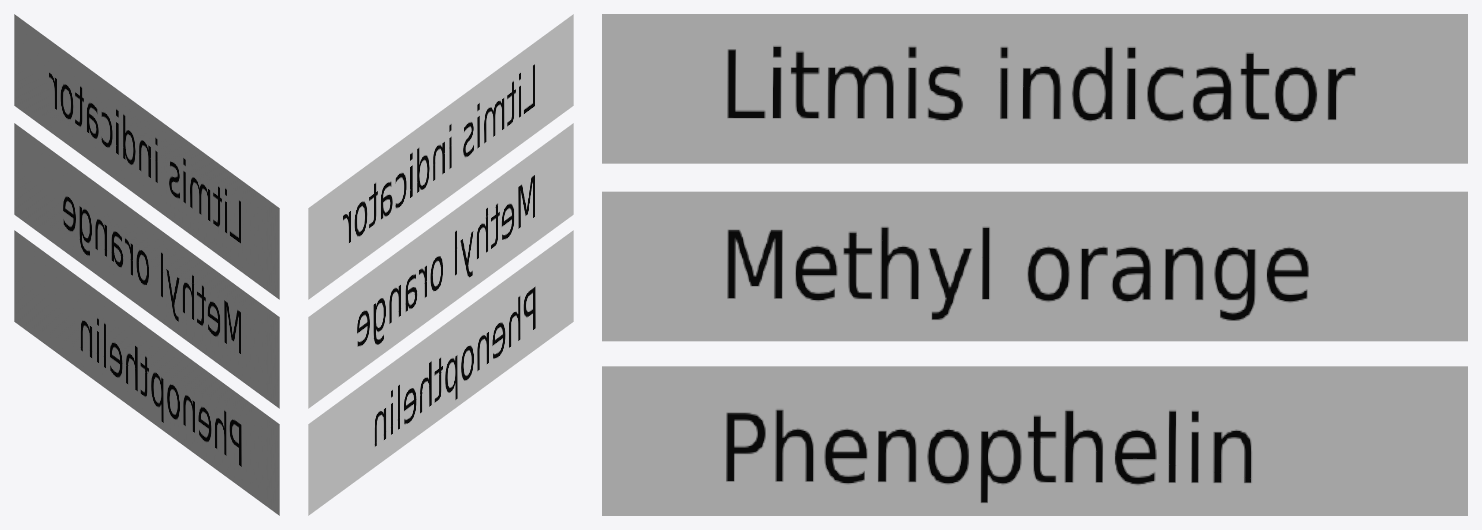
The model's file is panels.fbx.
3 renders of one model, left to right at view 1: azimuth 30°, elevation 25°; view 2: azimuth 150°, elevation 25°; view 3: azimuth 270°, elevation 25°, orthographic. The views are drawn at different scales.
Visible parts, largest first — view 1: pPlane2, pPlane1, pPlane3; view 2: pPlane2, pPlane1, pPlane3; view 3: pPlane2, pPlane1, pPlane3.
Part boxes in pixels (x1=…): pPlane2: x1=14, y1=123, x2=279, y2=408; pPlane1: x1=14, y1=14, x2=279, y2=299; pPlane3: x1=14, y1=230, x2=279, y2=515; pPlane2: x1=308, y1=123, x2=573, y2=408; pPlane1: x1=308, y1=14, x2=573, y2=299; pPlane3: x1=308, y1=230, x2=573, y2=515; pPlane2: x1=602, y1=191, x2=1467, y2=341; pPlane1: x1=602, y1=14, x2=1467, y2=163; pPlane3: x1=602, y1=366, x2=1467, y2=515.
Size of the model in its own units: 0 by 57.39 by 89.71.
1 material, 1 textured.
